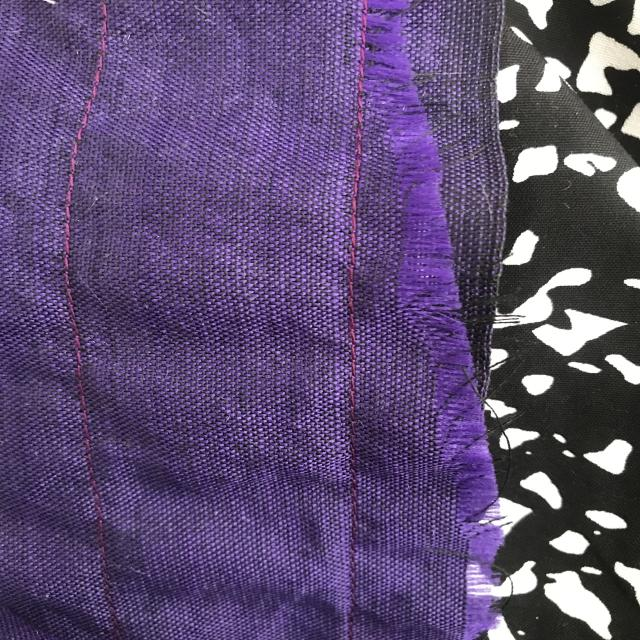good: (49, 118, 87, 239), (342, 125, 373, 256), (332, 302, 360, 412)
